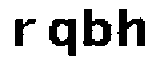b: (82, 4, 112, 47)
h: (114, 6, 146, 50)
q: (47, 14, 80, 60)
r: (11, 16, 39, 51)
